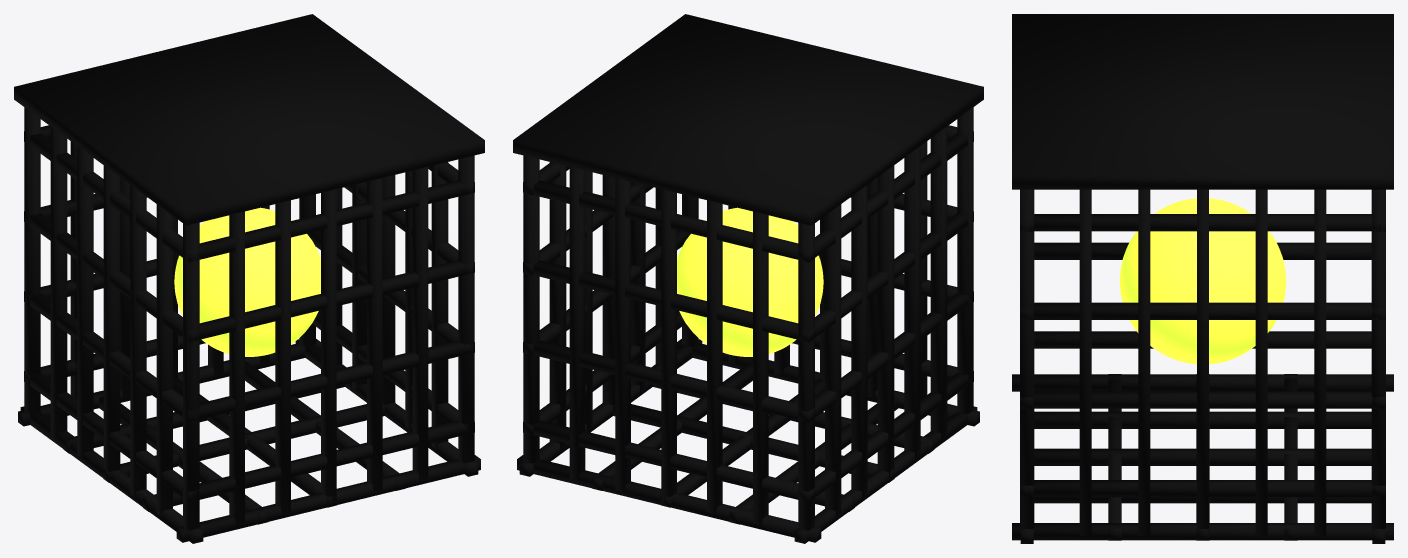
3 renders of one model, left to right at view 1: azimuth 30°, elevation 25°; view 2: azimuth 150°, elevation 25°; view 3: azimuth 270°, elevation 25°, orthographic. The views are drawn at different scales.
Parts seen in each view (by area): view 1: cap_top, core, vbar_fb_020, vbar_lr_022, vbar_lr_014, vbar_fb_016, vbar_fb_008, vbar_fb_004, vbar_fb_012, vbar_lr_006, vbar_lr_010, vbar_lr_018 (+39 smaller); view 2: cap_top, core, vbar_fb_021, vbar_lr_006, vbar_lr_014, vbar_fb_017, vbar_fb_009, vbar_fb_005, vbar_fb_013, vbar_lr_022, vbar_lr_010, vbar_lr_018 (+37 smaller); view 3: cap_top, core, ring_lr_035, ring_lr_031, ring_lr_043, ring_lr_039, bgrid_y_053, bgrid_y_049, bgrid_y_047, bgrid_y_045, vbar_lr_007, vbar_lr_011 (+14 smaller).
Boxes of the visible parts, <box> form: cap_top: <box>14,14,484,225</box>; core: <box>174,207,320,356</box>; vbar_fb_020: <box>412,167,428,480</box>; vbar_lr_022: <box>50,127,67,439</box>; vbar_lr_014: <box>103,165,120,472</box>; vbar_fb_016: <box>367,178,382,492</box>; vbar_fb_008: <box>275,200,290,514</box>; vbar_fb_004: <box>229,211,244,525</box>; vbar_fb_012: <box>321,189,336,501</box>; vbar_lr_006: <box>156,204,172,516</box>; vbar_lr_010: <box>130,185,146,497</box>; vbar_lr_018: <box>77,146,93,459</box>; cap_top: <box>513,14,983,225</box>; core: <box>677,207,823,356</box>; vbar_fb_021: <box>569,167,585,480</box>; vbar_lr_006: <box>930,127,947,439</box>; vbar_lr_014: <box>877,165,894,478</box>; vbar_fb_017: <box>615,178,630,492</box>; vbar_fb_009: <box>707,200,722,514</box>; vbar_fb_005: <box>753,211,768,525</box>; vbar_fb_013: <box>661,189,676,501</box>; vbar_lr_022: <box>825,204,841,516</box>; vbar_lr_010: <box>904,146,920,459</box>; vbar_lr_018: <box>851,185,867,497</box>; cap_top: <box>1012,14,1393,189</box>; core: <box>1119,198,1286,364</box>; ring_lr_035: <box>1020,391,1385,408</box>; ring_lr_031: <box>1020,480,1385,497</box>; ring_lr_043: <box>1020,214,1385,231</box>; ring_lr_039: <box>1020,302,1385,319</box>; bgrid_y_053: <box>1020,523,1385,540</box>; bgrid_y_049: <box>1034,448,1371,465</box>; bgrid_y_047: <box>1034,411,1371,428</box>; bgrid_y_045: <box>1034,374,1371,391</box>; vbar_lr_007: <box>1079,189,1091,535</box>; vbar_lr_011: <box>1138,189,1150,535</box>.
Size of the model in its own units: 1.47 by 1.56 by 1.47.
